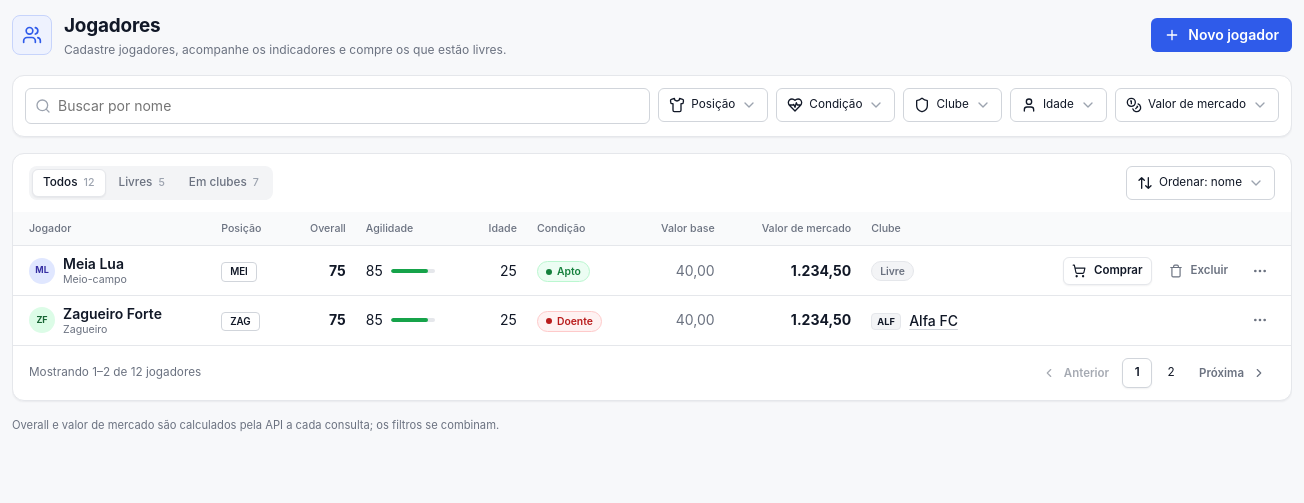
Scenario: PlayersPage list › shows the API message when the list is refused
Check: the button "Meia Lua" is shown, box [63,255,124,273]
Click the button "Idade" at (1058, 105), box [1010,88,1107,122]
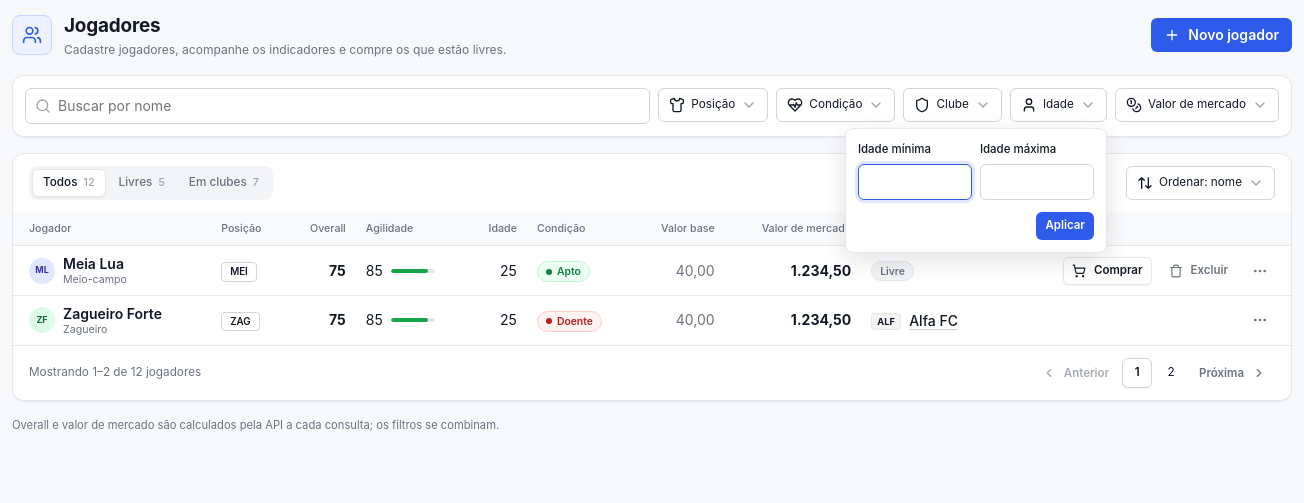
Type "40" into the field labelled "Idade mínima" at (915, 182), box [858,164,972,200]
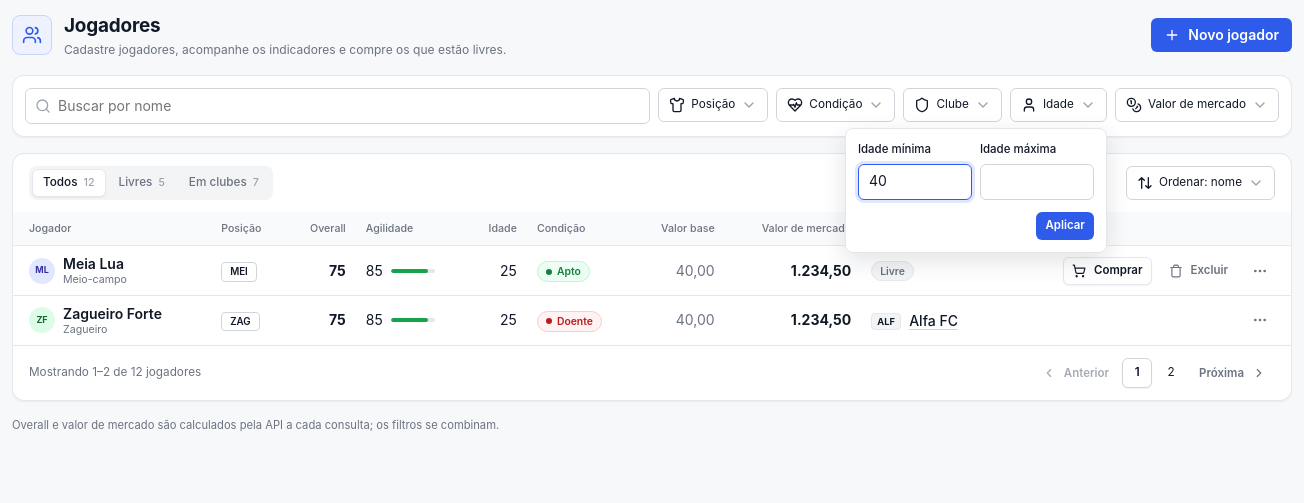
Type "20" into the field labelled "Idade máxima" at (1037, 182), box [980,164,1094,200]
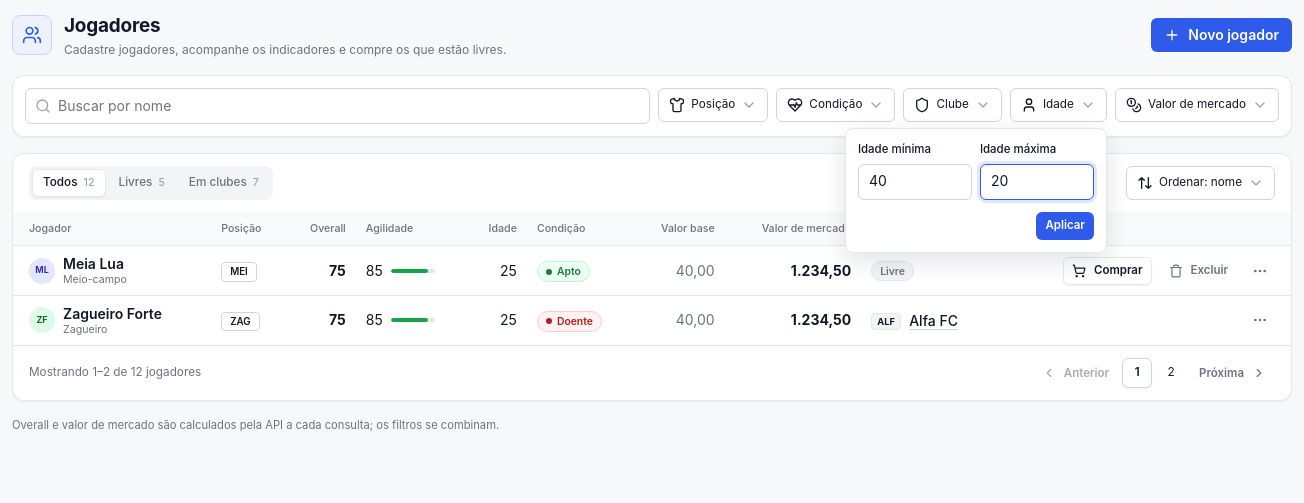
Click the button "Aplicar" at (1065, 226), box [1036,212,1094,240]
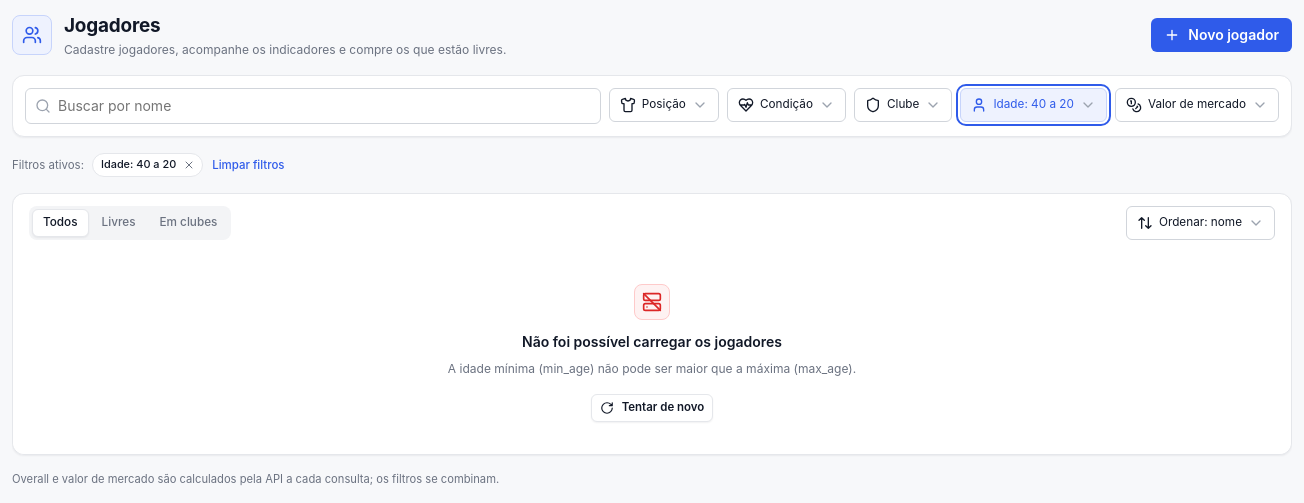
Check: the message shows "Não foi possível carregar os jogadores", box [522,333,782,350]
Check: the message shows "A idade mínima (min_age) não pode ser maior que a máxima (max_age).", box [448,361,856,376]
Check: the button "Tentar de novo" is shown, box [591,394,713,422]
